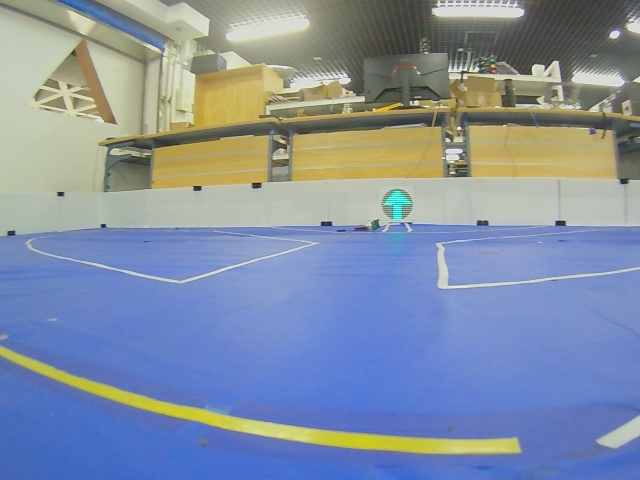straight_green: (381, 188, 413, 221)
